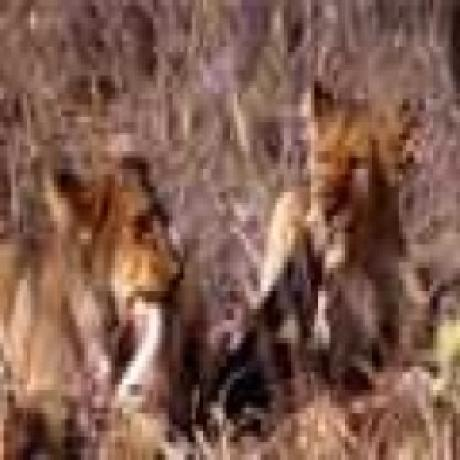Lion: (257, 79, 423, 374), (0, 154, 187, 408)
